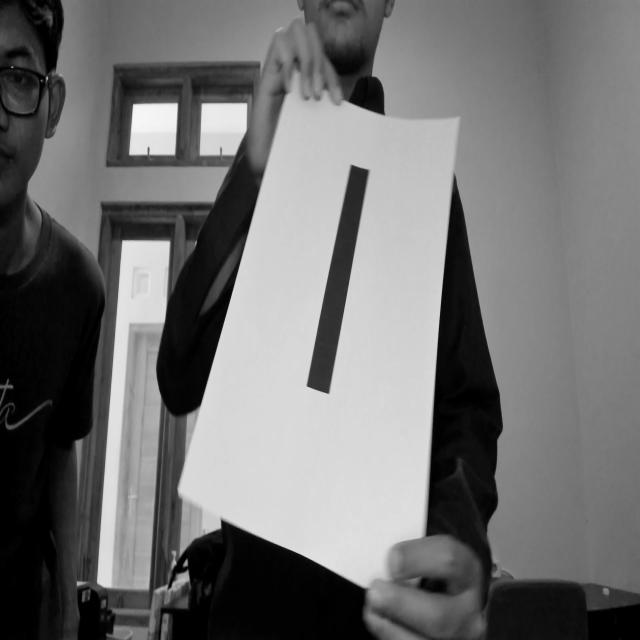i: (303, 120, 393, 472)
